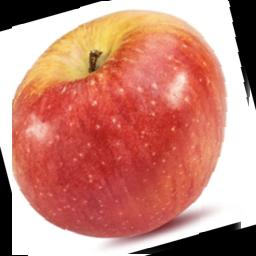Apple Fresh: (12, 1, 256, 255)
